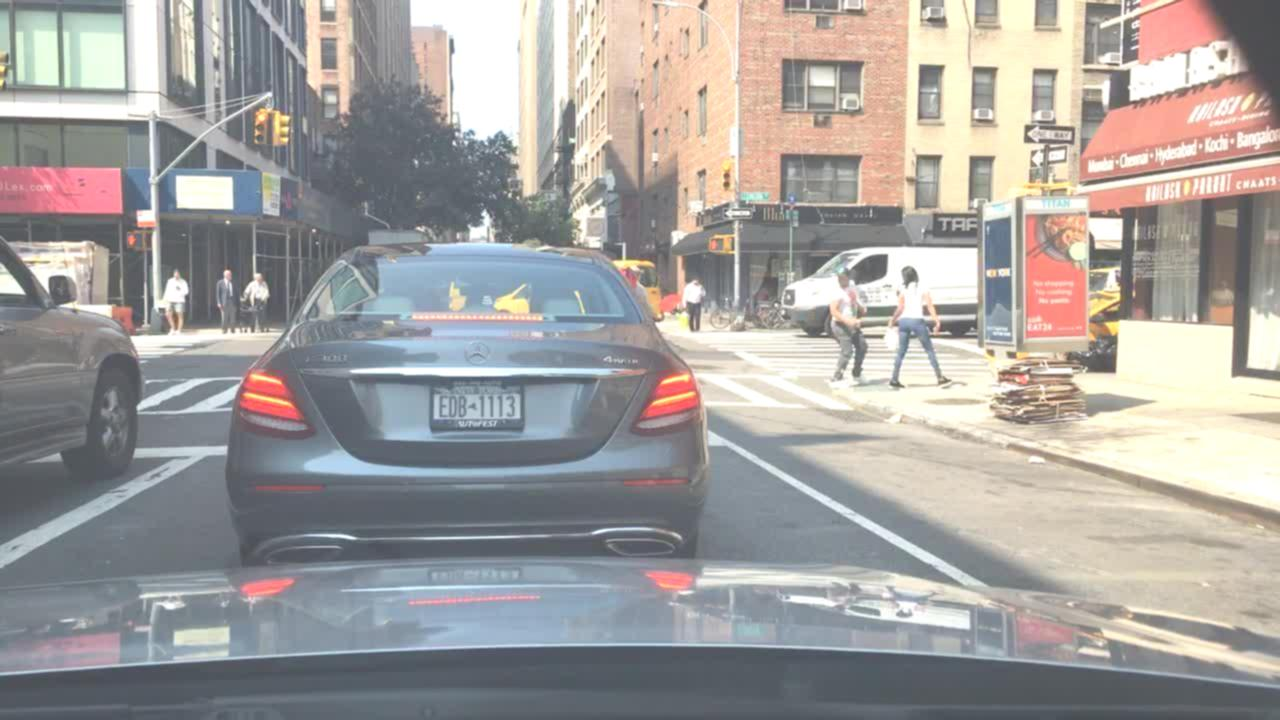Mercedes: (466, 336, 492, 365)
